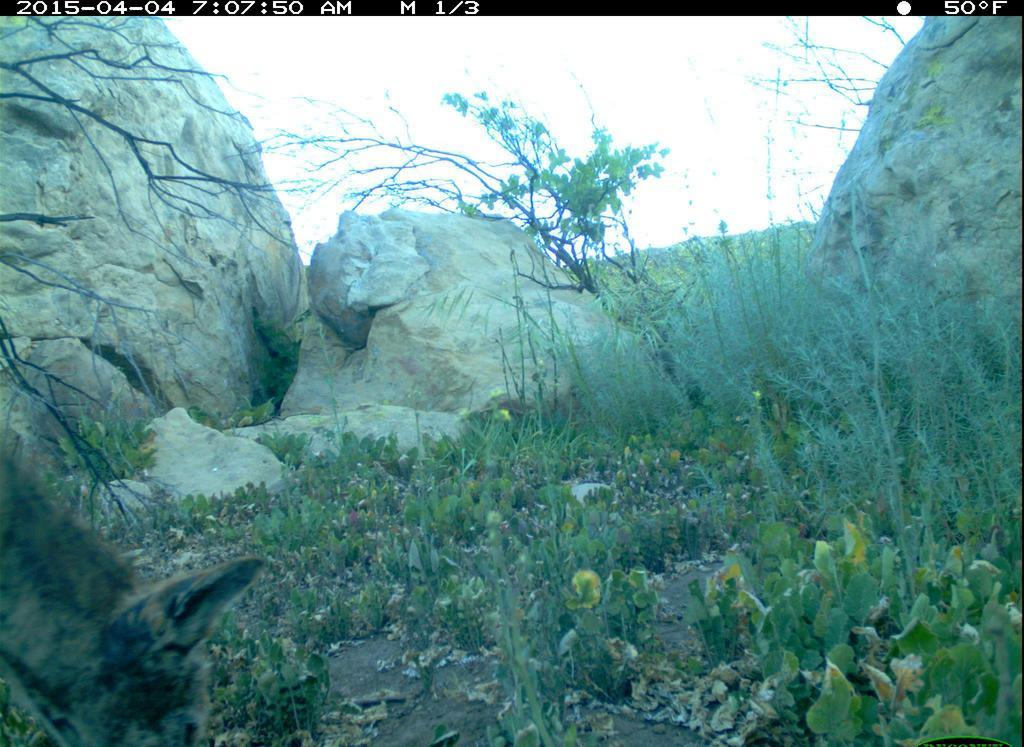coyote: (1, 388, 265, 747)
